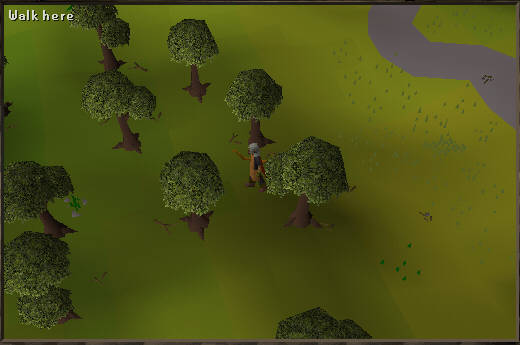Tree: (270, 126, 356, 237), (0, 152, 86, 241), (72, 71, 159, 158), (157, 146, 222, 229), (222, 53, 277, 141), (68, 8, 138, 69), (169, 17, 216, 104)
